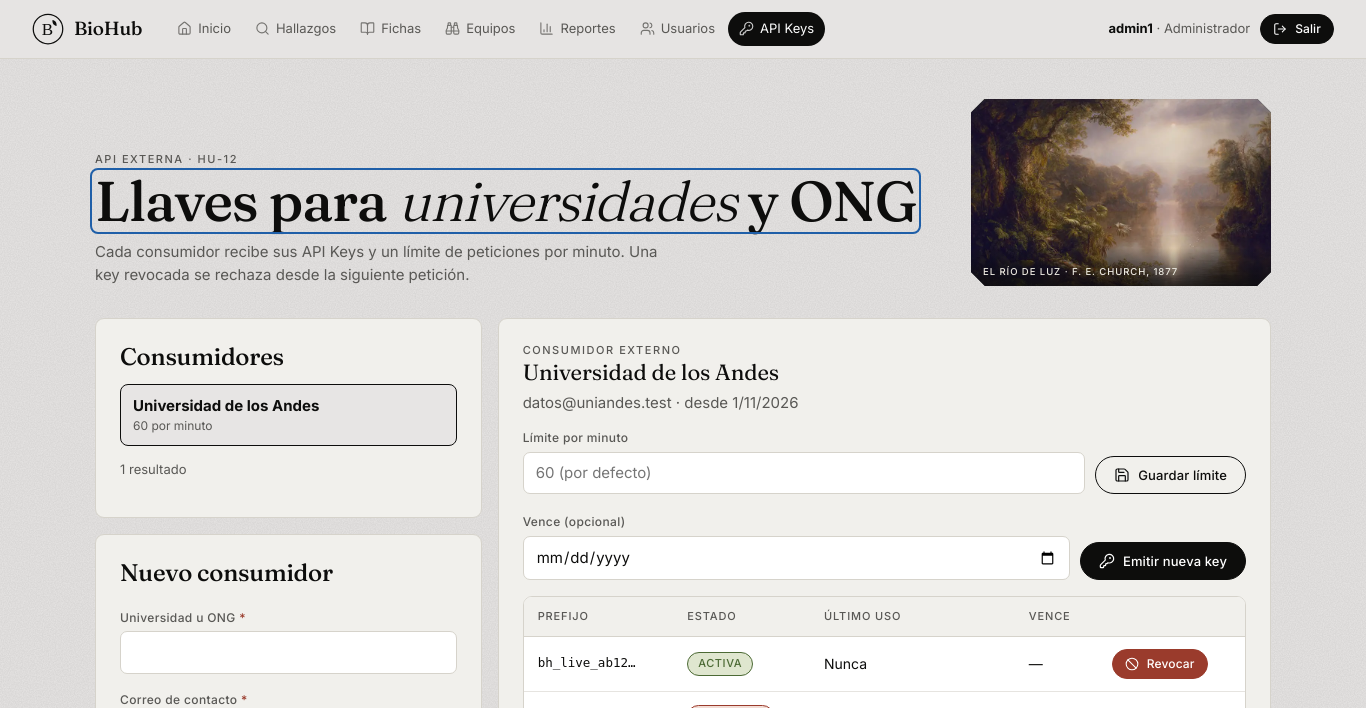
Test: API Keys de consumidores externos (HU-12, RNF11) › una key nueva se muestra una sola vez y se puede ocultar
Click the button "Emitir nueva key" at point(1163, 561), box [1080,542,1246,580]
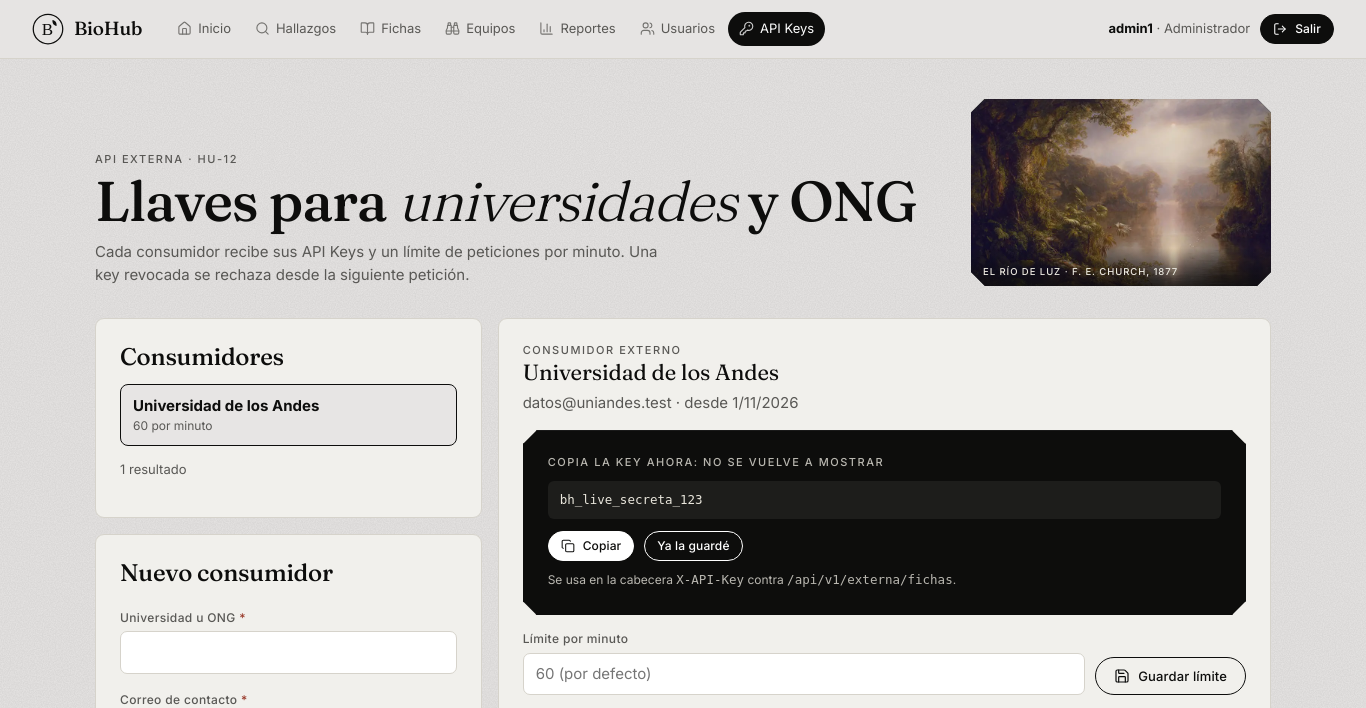
Now the text "bh_live_secreta_123" is shown, box [548,480,1221,519]
Now the text "Copia la key ahora: no se vuelve a mostrar" is shown, box [548,455,884,469]
Click the button "Ya la guardé" at point(693, 546), box [644,531,742,561]
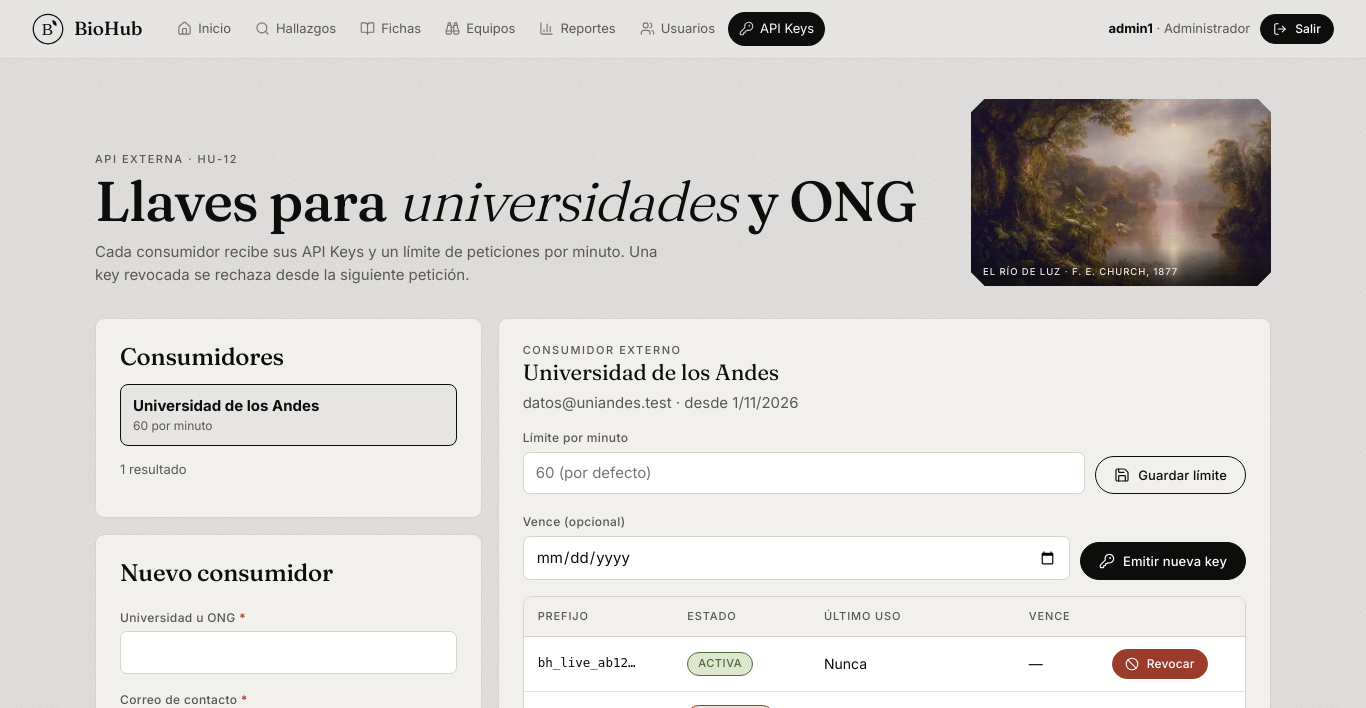
Now the text "bh_live_secreta_123" is gone
